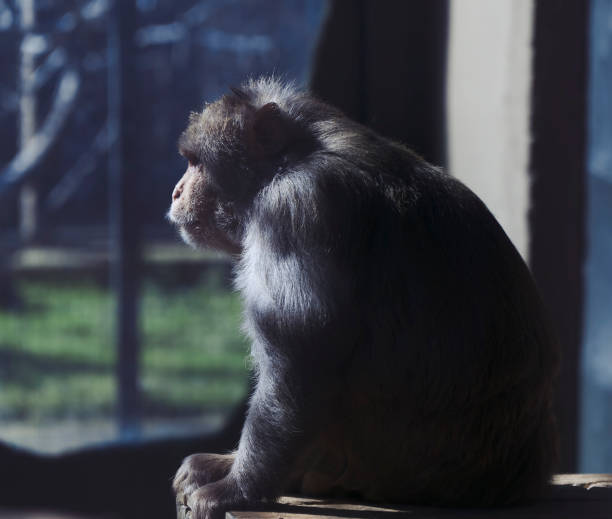chimpanzee: (134, 82, 314, 264)
